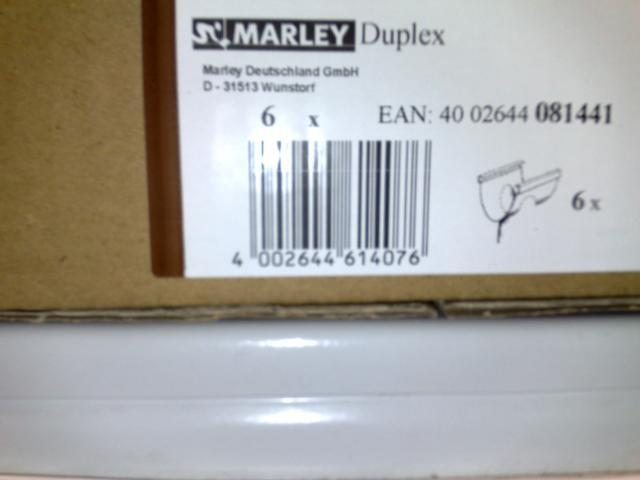Barcode: (218, 133, 453, 274)
